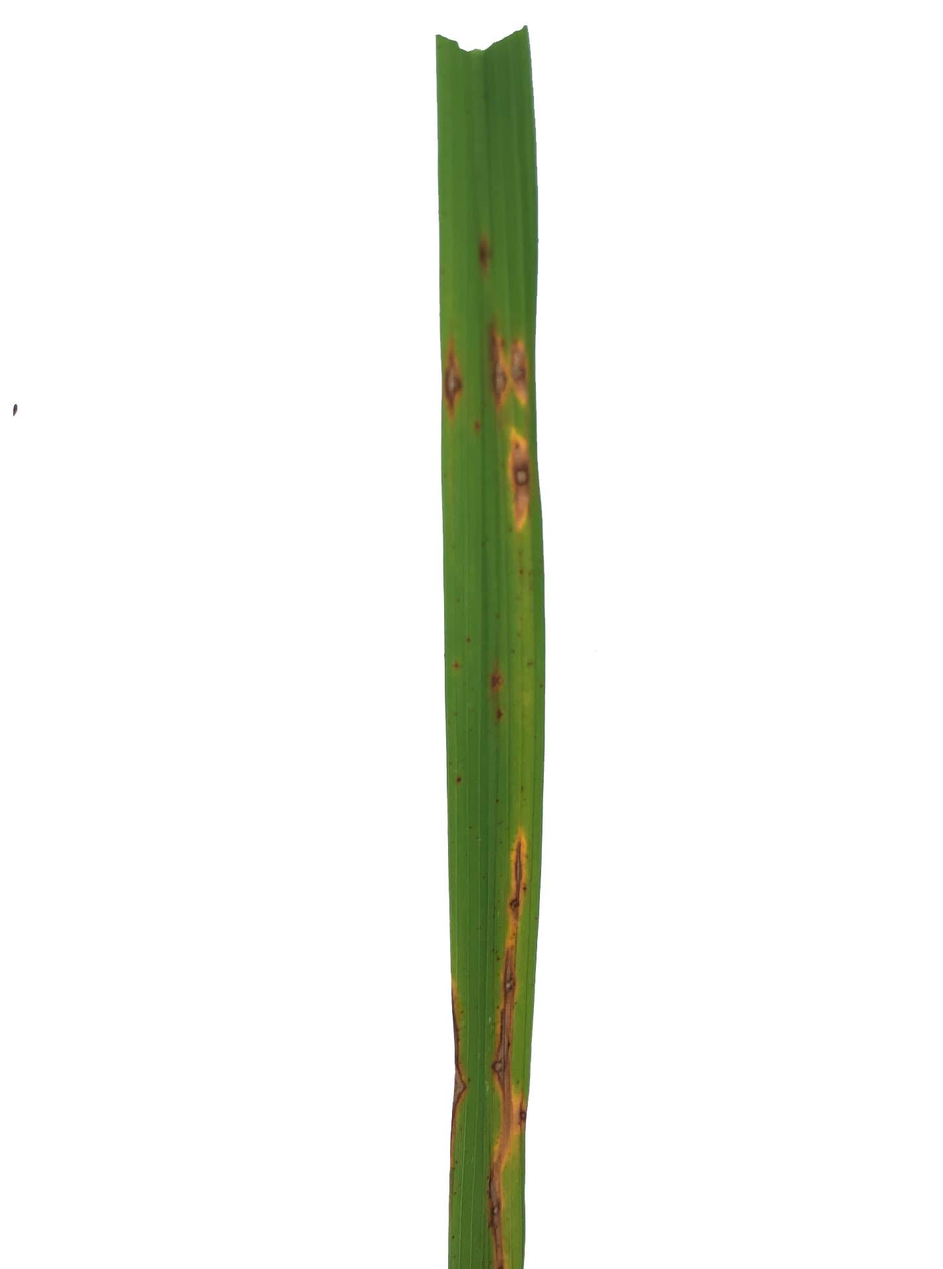Rice blast: (496, 829, 513, 1235), (495, 412, 542, 535), (480, 320, 533, 403), (439, 335, 468, 418)
